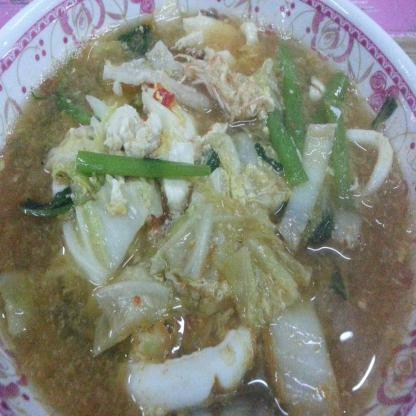Suki: (19, 14, 402, 412)
